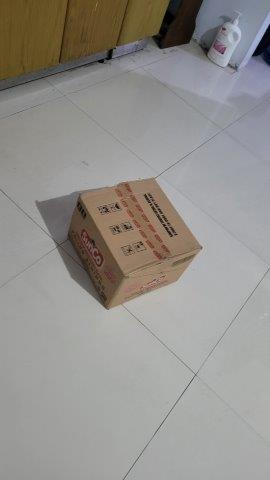kardus: (67, 177, 204, 309)
